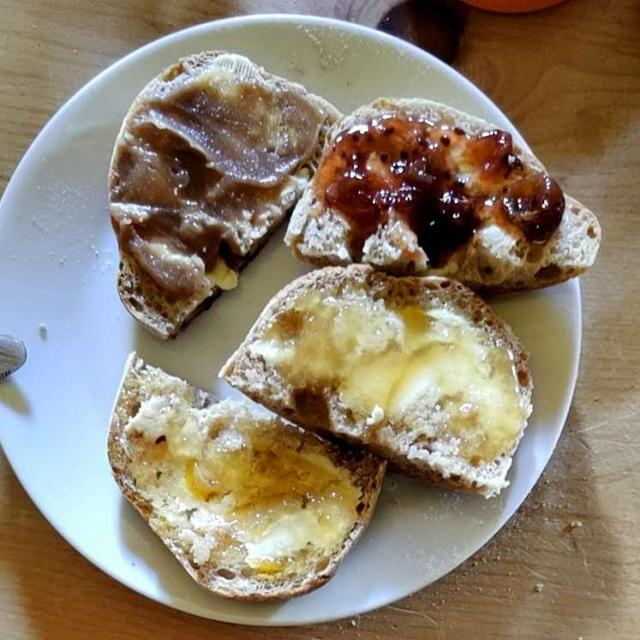bread-wholemeal: (113, 59, 607, 595)
butter: (122, 102, 561, 571)
honey: (151, 312, 489, 574)
jam: (313, 129, 554, 241)
